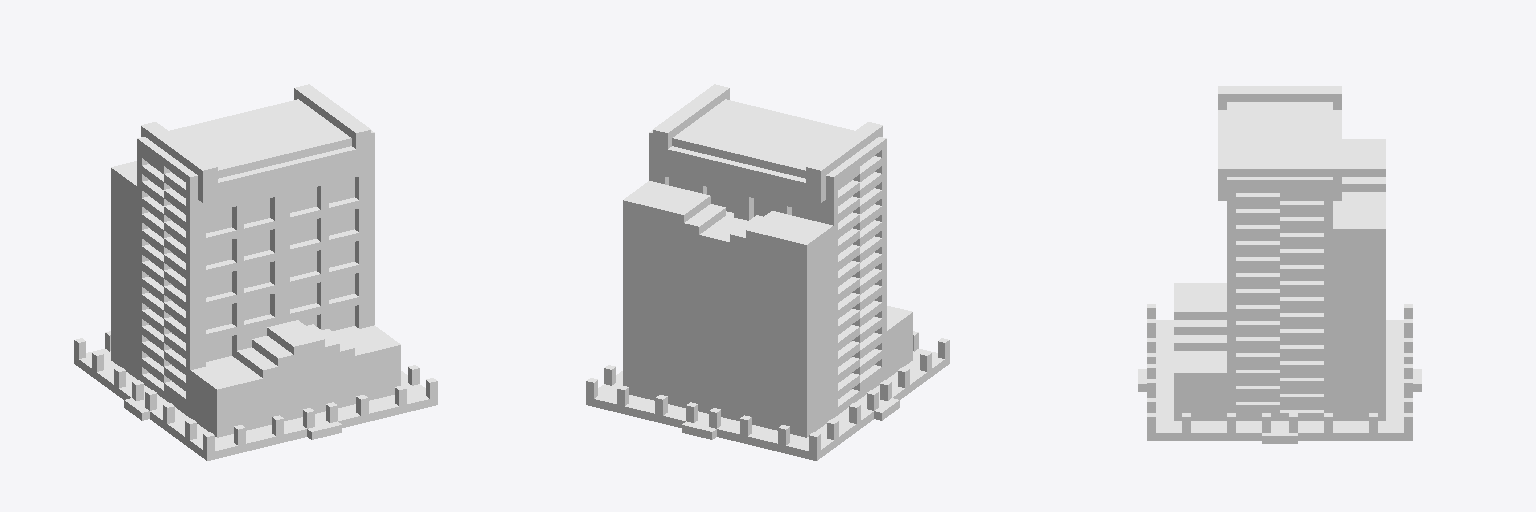
File: office9.obj
The picture shows the model from 3 angles: view 1: azimuth 30°, elevation 25°; view 2: azimuth 150°, elevation 25°; view 3: azimuth 270°, elevation 25°; orthographic projection.
Parts seen in each view (by area): view 1: object 1; view 2: object 1; view 3: object 1.
Part boxes in pixels (left/top/right/bottom): object 1: left=74, top=84, right=437, bottom=460; object 1: left=586, top=84, right=949, bottom=460; object 1: left=1138, top=86, right=1421, bottom=443.
Size of the model in its own units: 3.2 by 3.2 by 3.2.